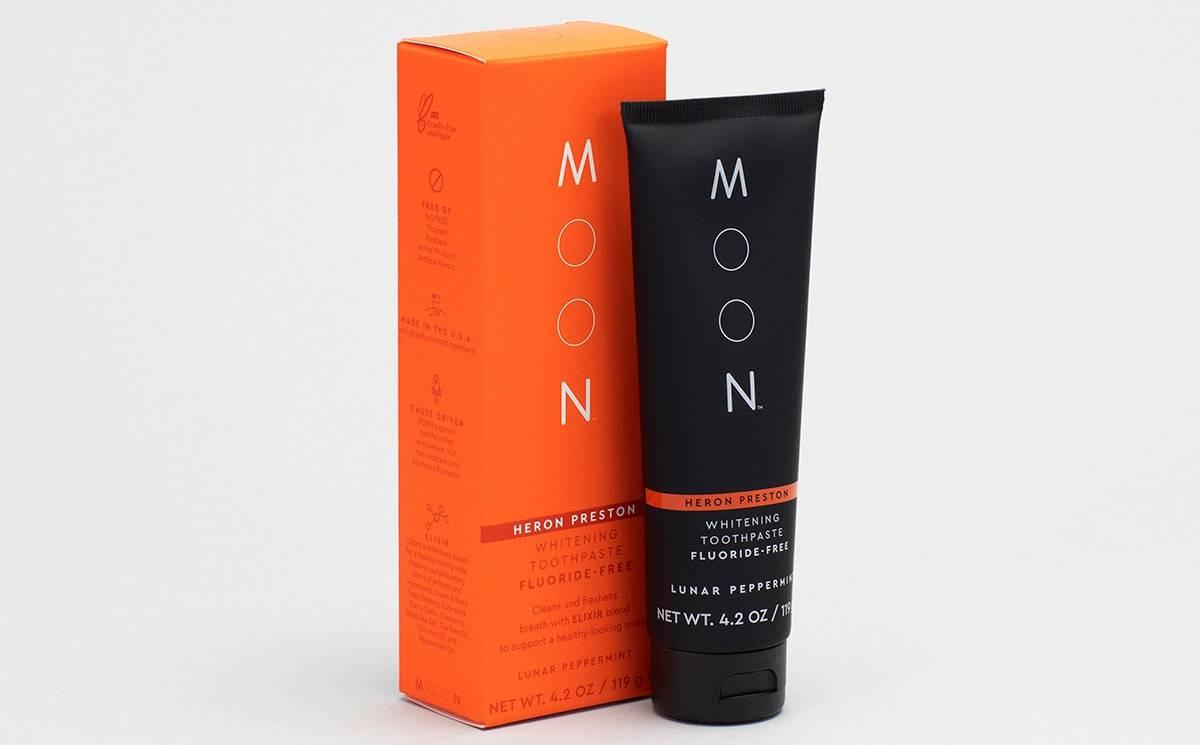toothpaste: (607, 76, 849, 726)
